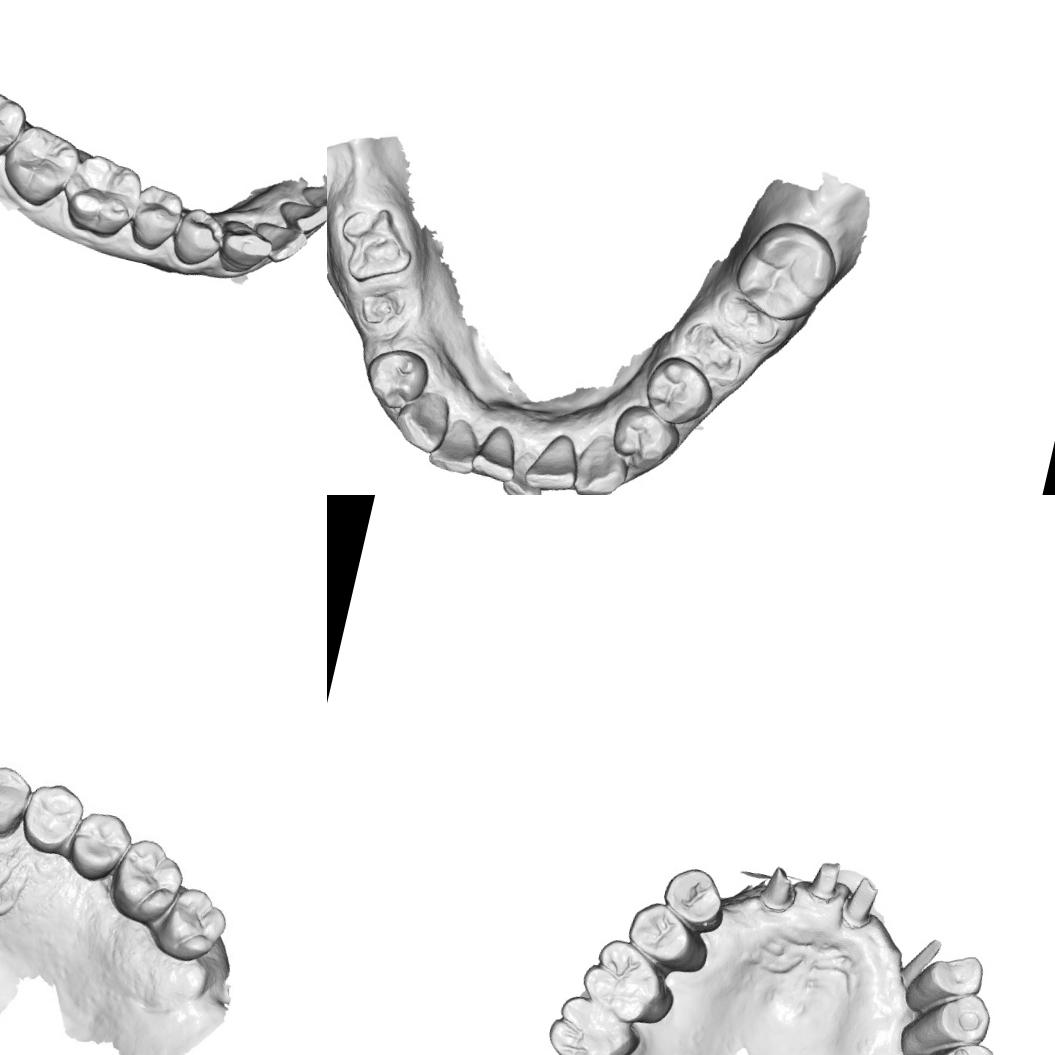canine: (387, 384, 454, 458), (569, 430, 636, 495), (212, 216, 278, 281), (0, 756, 38, 843)
crown: (896, 933, 942, 994), (838, 872, 882, 932), (755, 861, 803, 916), (803, 856, 847, 906)
incisor: (522, 428, 587, 495), (424, 410, 484, 478), (467, 421, 525, 485), (249, 218, 312, 269), (497, 447, 551, 495), (272, 193, 327, 240), (295, 175, 327, 222)
molar: (728, 212, 846, 331), (575, 933, 684, 1032), (108, 830, 195, 929), (58, 148, 148, 243), (148, 877, 237, 969), (0, 119, 83, 213), (541, 989, 646, 1055), (0, 79, 32, 170), (898, 1029, 1004, 1055)
premolar: (622, 896, 717, 978), (895, 979, 996, 1055), (638, 349, 722, 434), (901, 943, 988, 1025), (356, 340, 435, 418), (17, 774, 88, 860), (606, 398, 682, 476), (656, 862, 732, 937), (64, 806, 132, 887), (126, 182, 188, 255), (169, 204, 230, 272)
